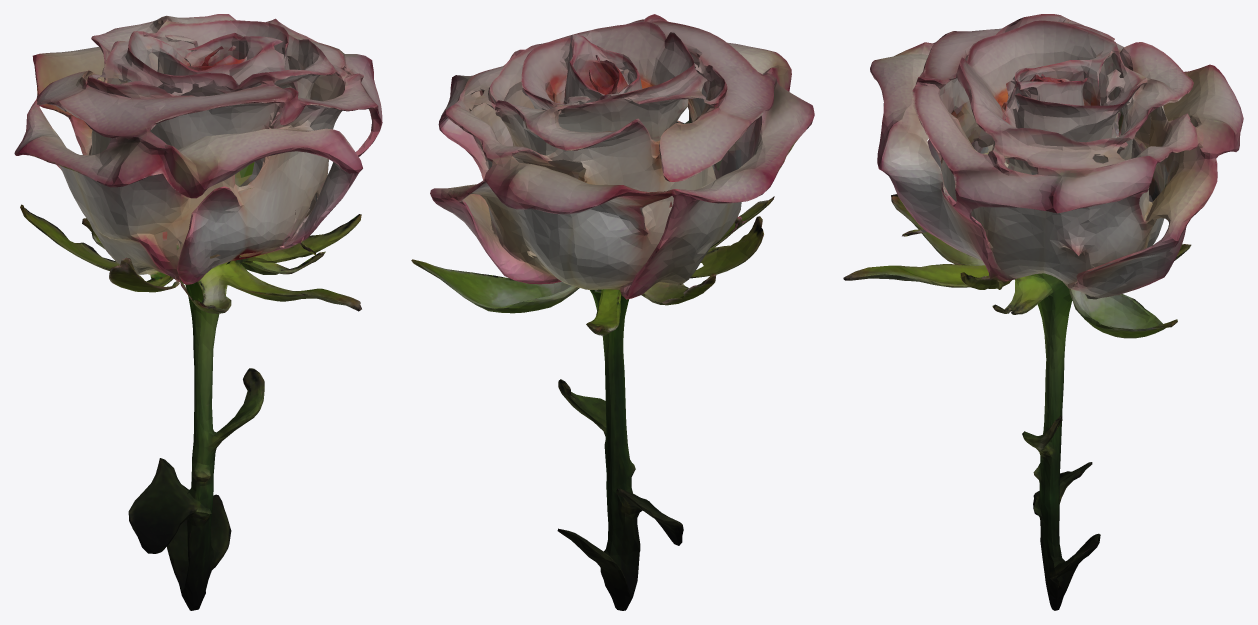
The picture shows the model from 3 angles, left to right: view 1: azimuth 30°, elevation 25°; view 2: azimuth 150°, elevation 25°; view 3: azimuth 270°, elevation 25°; orthographic projection. The views are drawn at different scales.
Parts seen in each view (by area): view 1: world; view 2: world; view 3: world.
Part boxes in pixels (left/top/right/bottom): world: left=14, top=14, right=382, bottom=610; world: left=411, top=14, right=814, bottom=610; world: left=843, top=14, right=1243, bottom=610.
Size of the model in its own units: 0.6221 by 0.9835 by 0.6383.
1 material, 1 textured.
